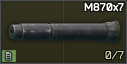M870 12ga 7-shell magazine: (0, 0, 127, 64)
